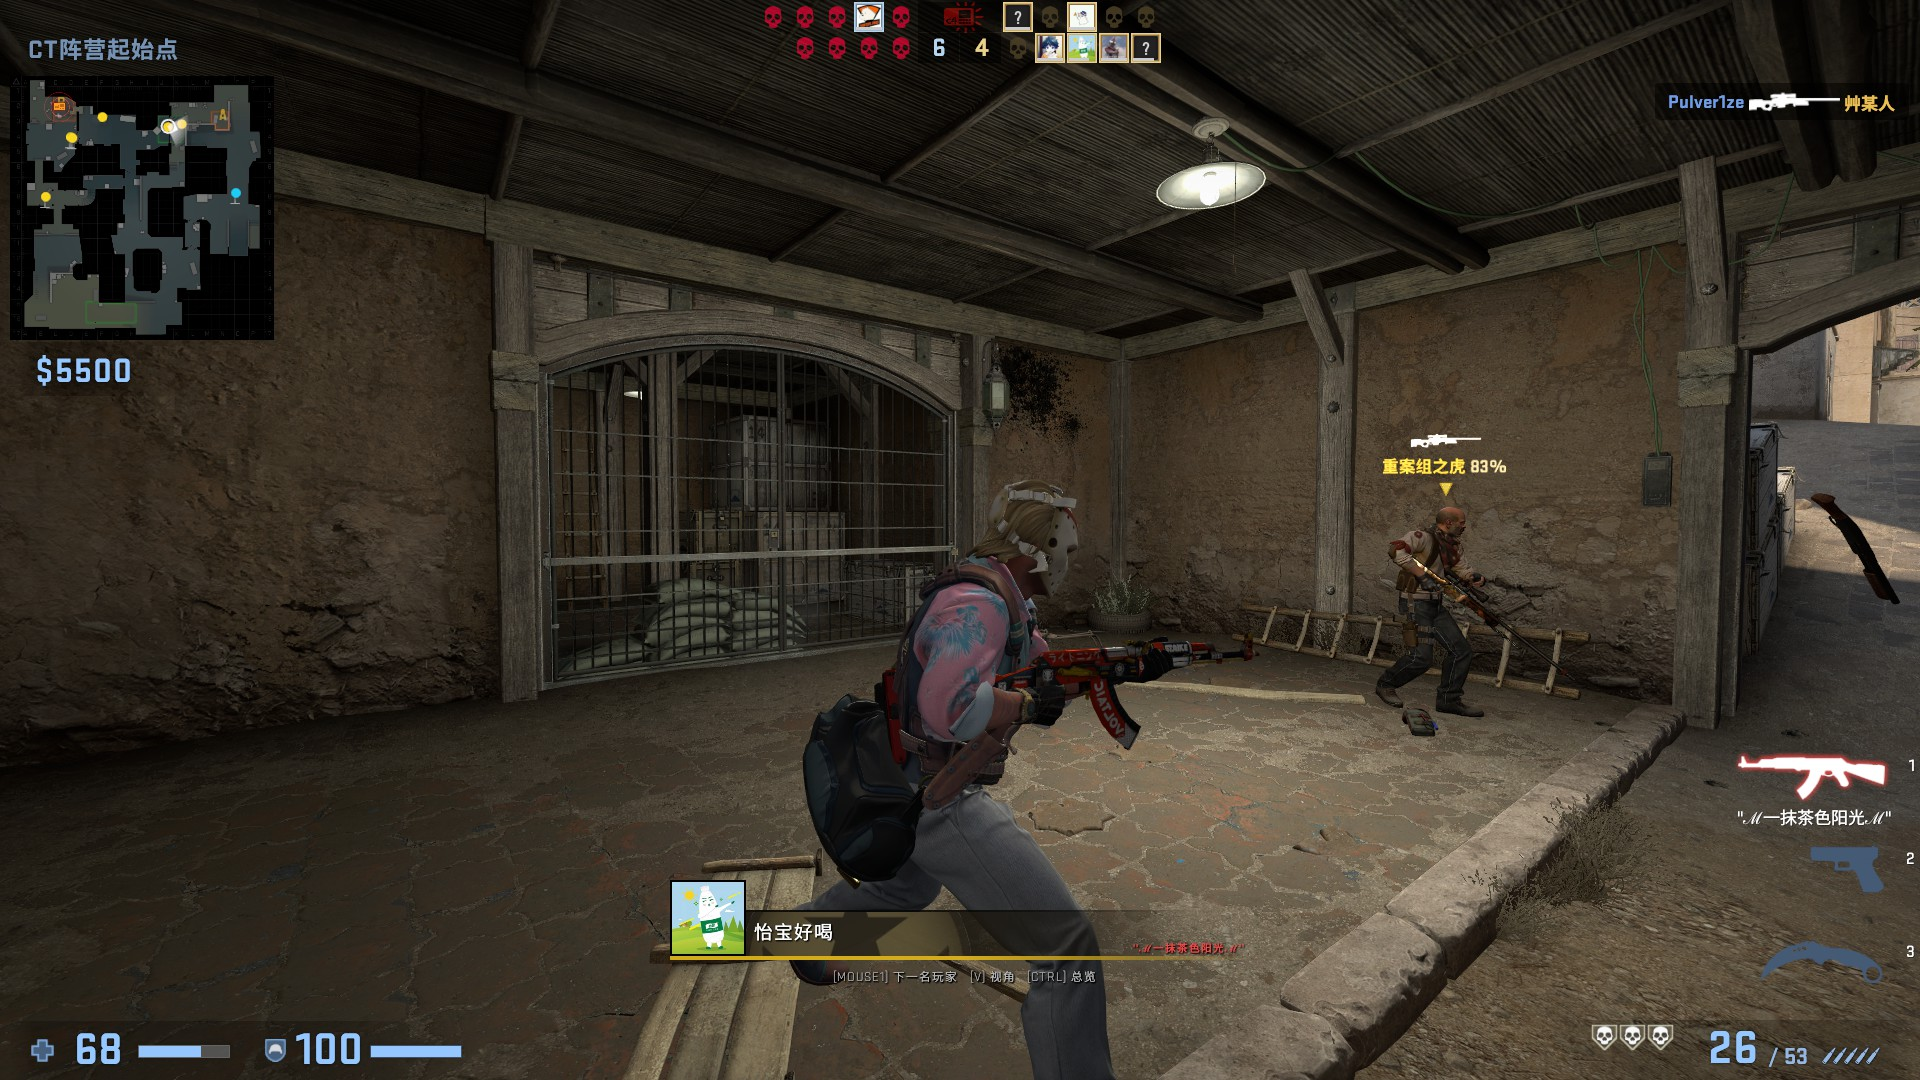head: (991, 478, 1090, 604), (1434, 505, 1470, 539)
